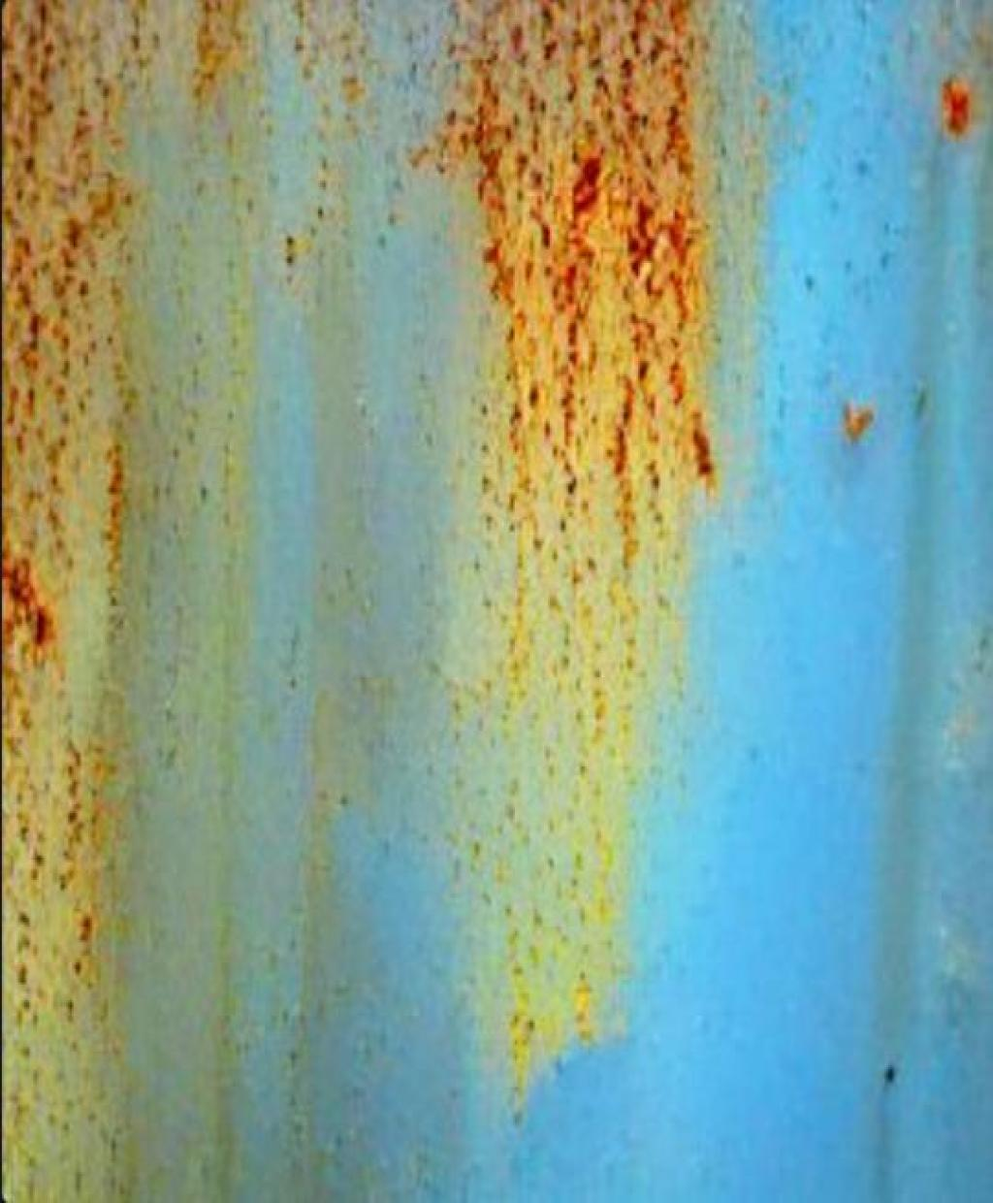corrosion: (441, 0, 721, 620), (941, 79, 977, 140), (843, 385, 877, 440)
